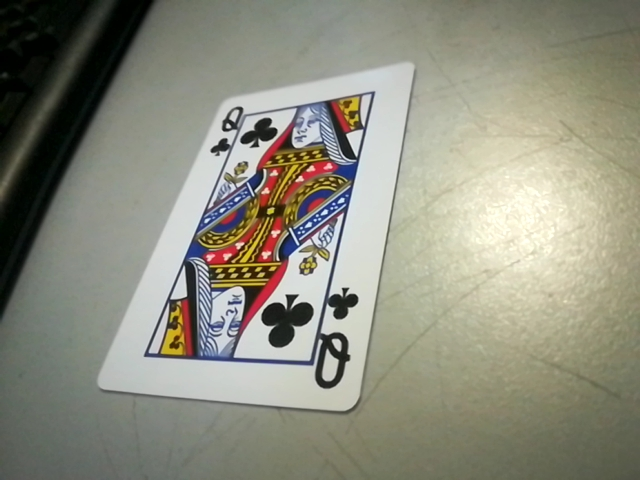mh q: (308, 286, 366, 404)
